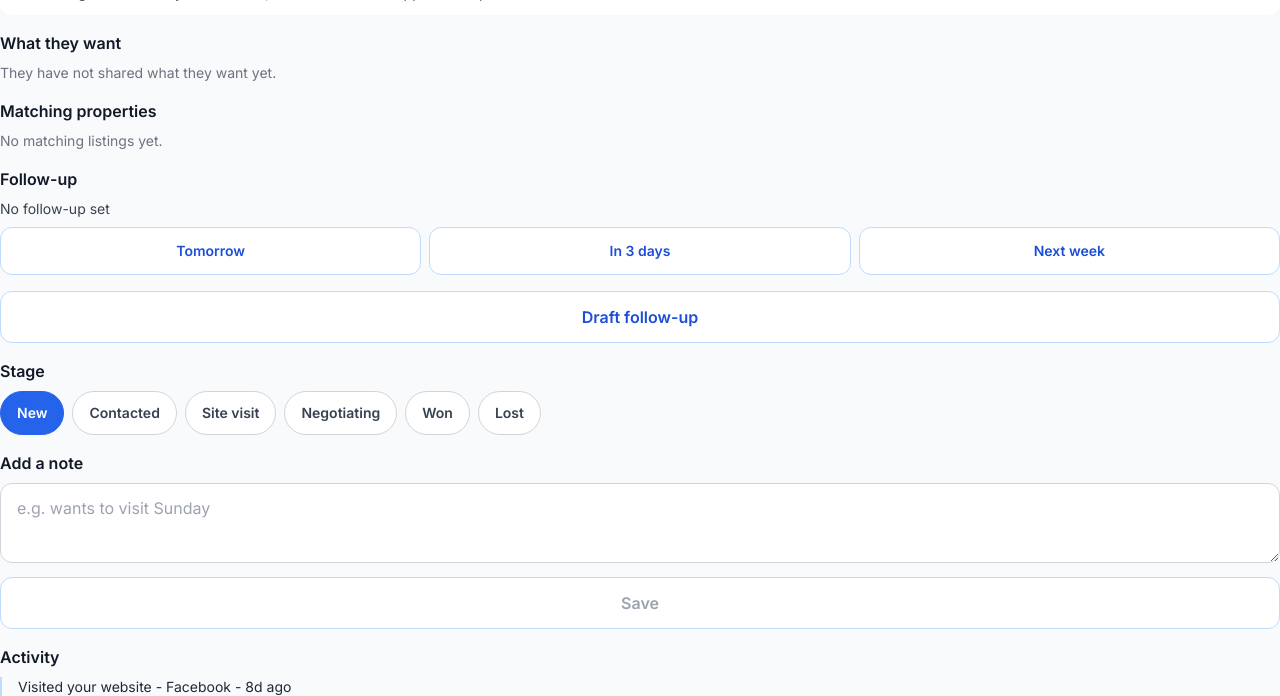
Scenario: Why was it lost? sheet (stage Lost) › Skip saves stage lost with no outcome
(page scrolled)
Click the button "Lost" at (509, 413), box [478,391,541,435]
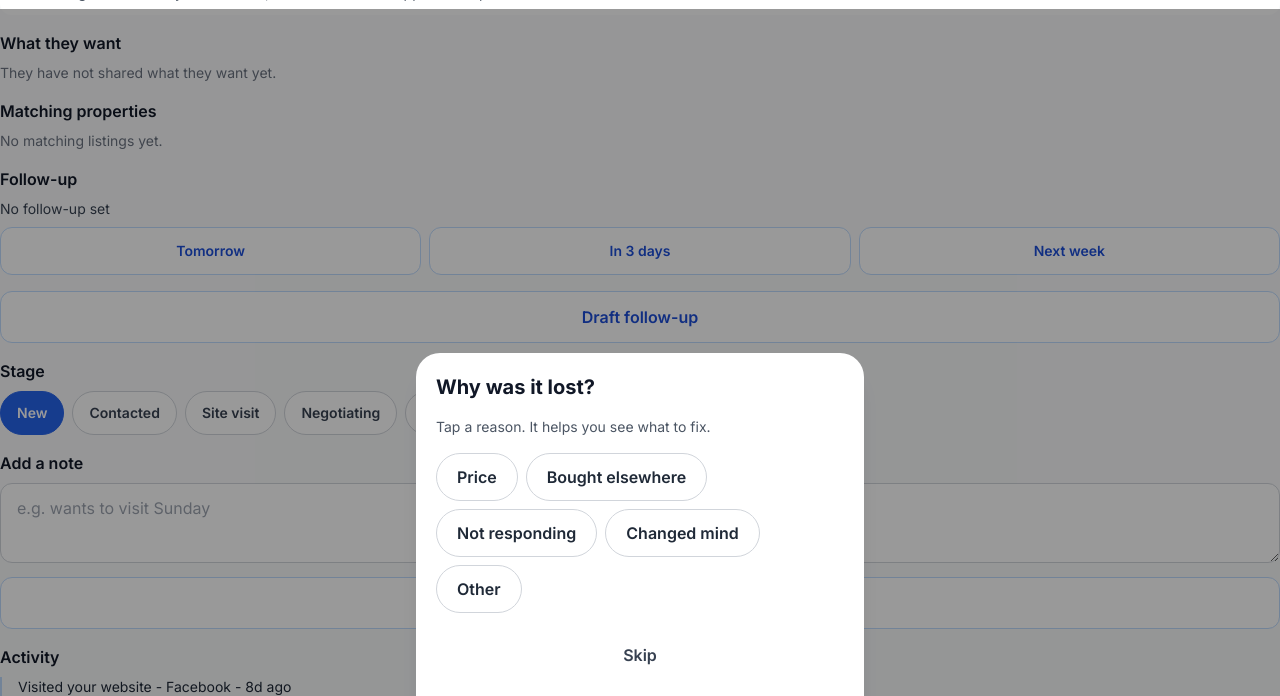
Click the button "Skip" at (640, 655), box [436,629,844,681]
(page scrolled)
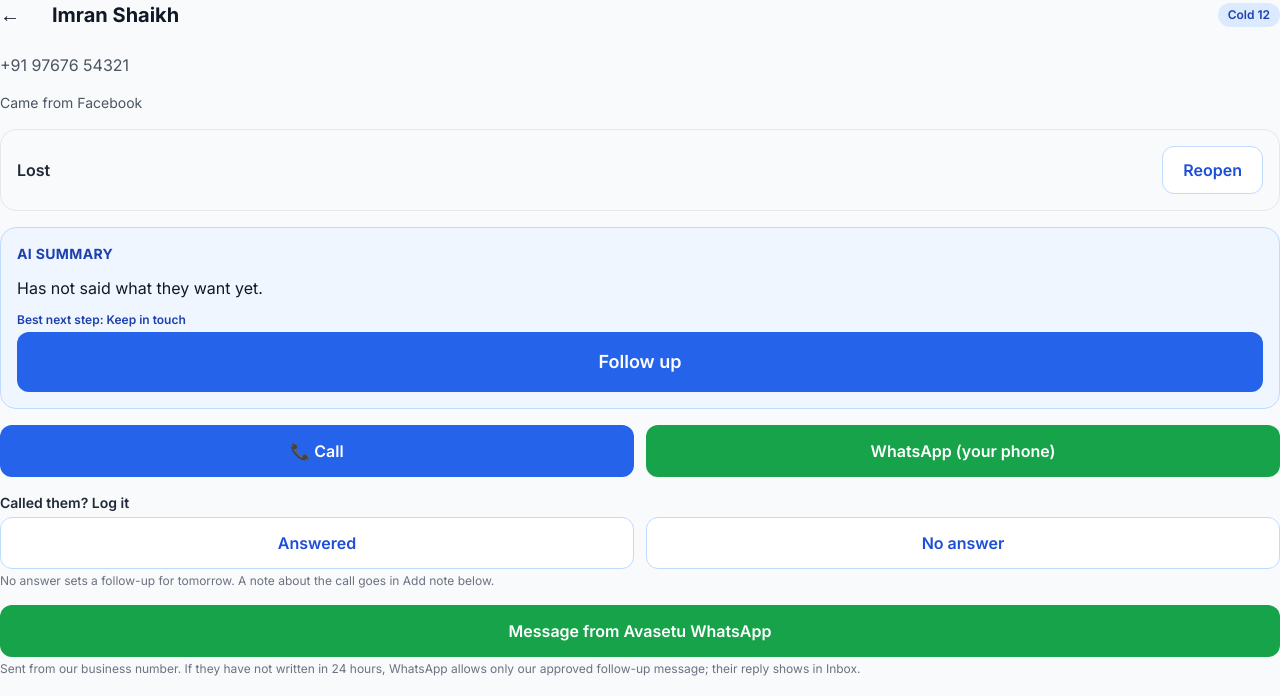
Result: the element with test id "outcome-summary" shows "Lost" at [17,160,50,180]
